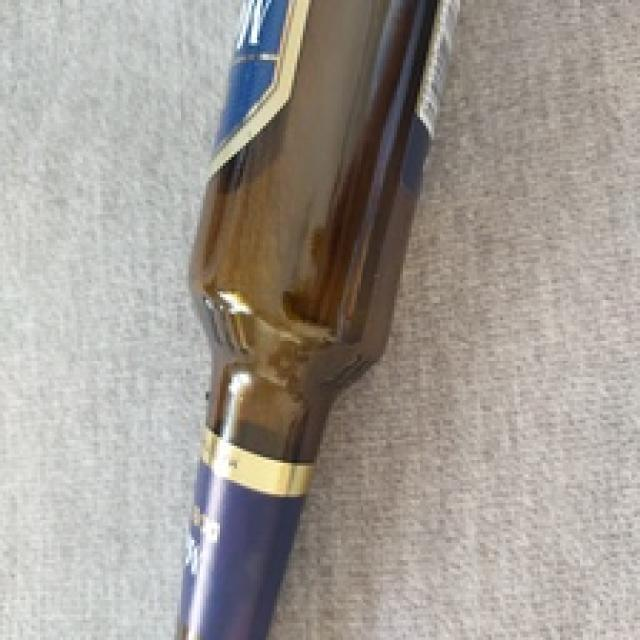Glass: (179, 0, 459, 640)
